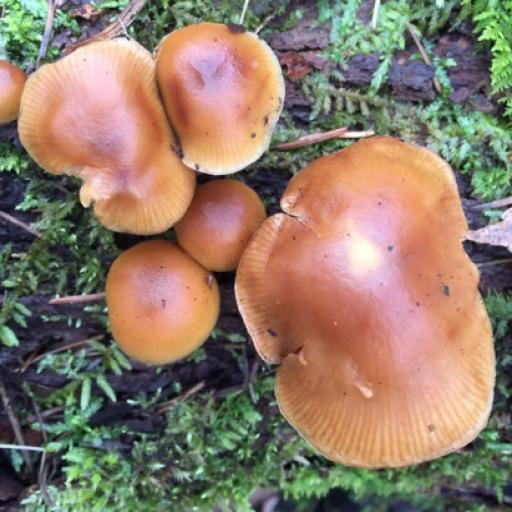mushroom: (12, 17, 275, 385), (272, 139, 501, 471)
